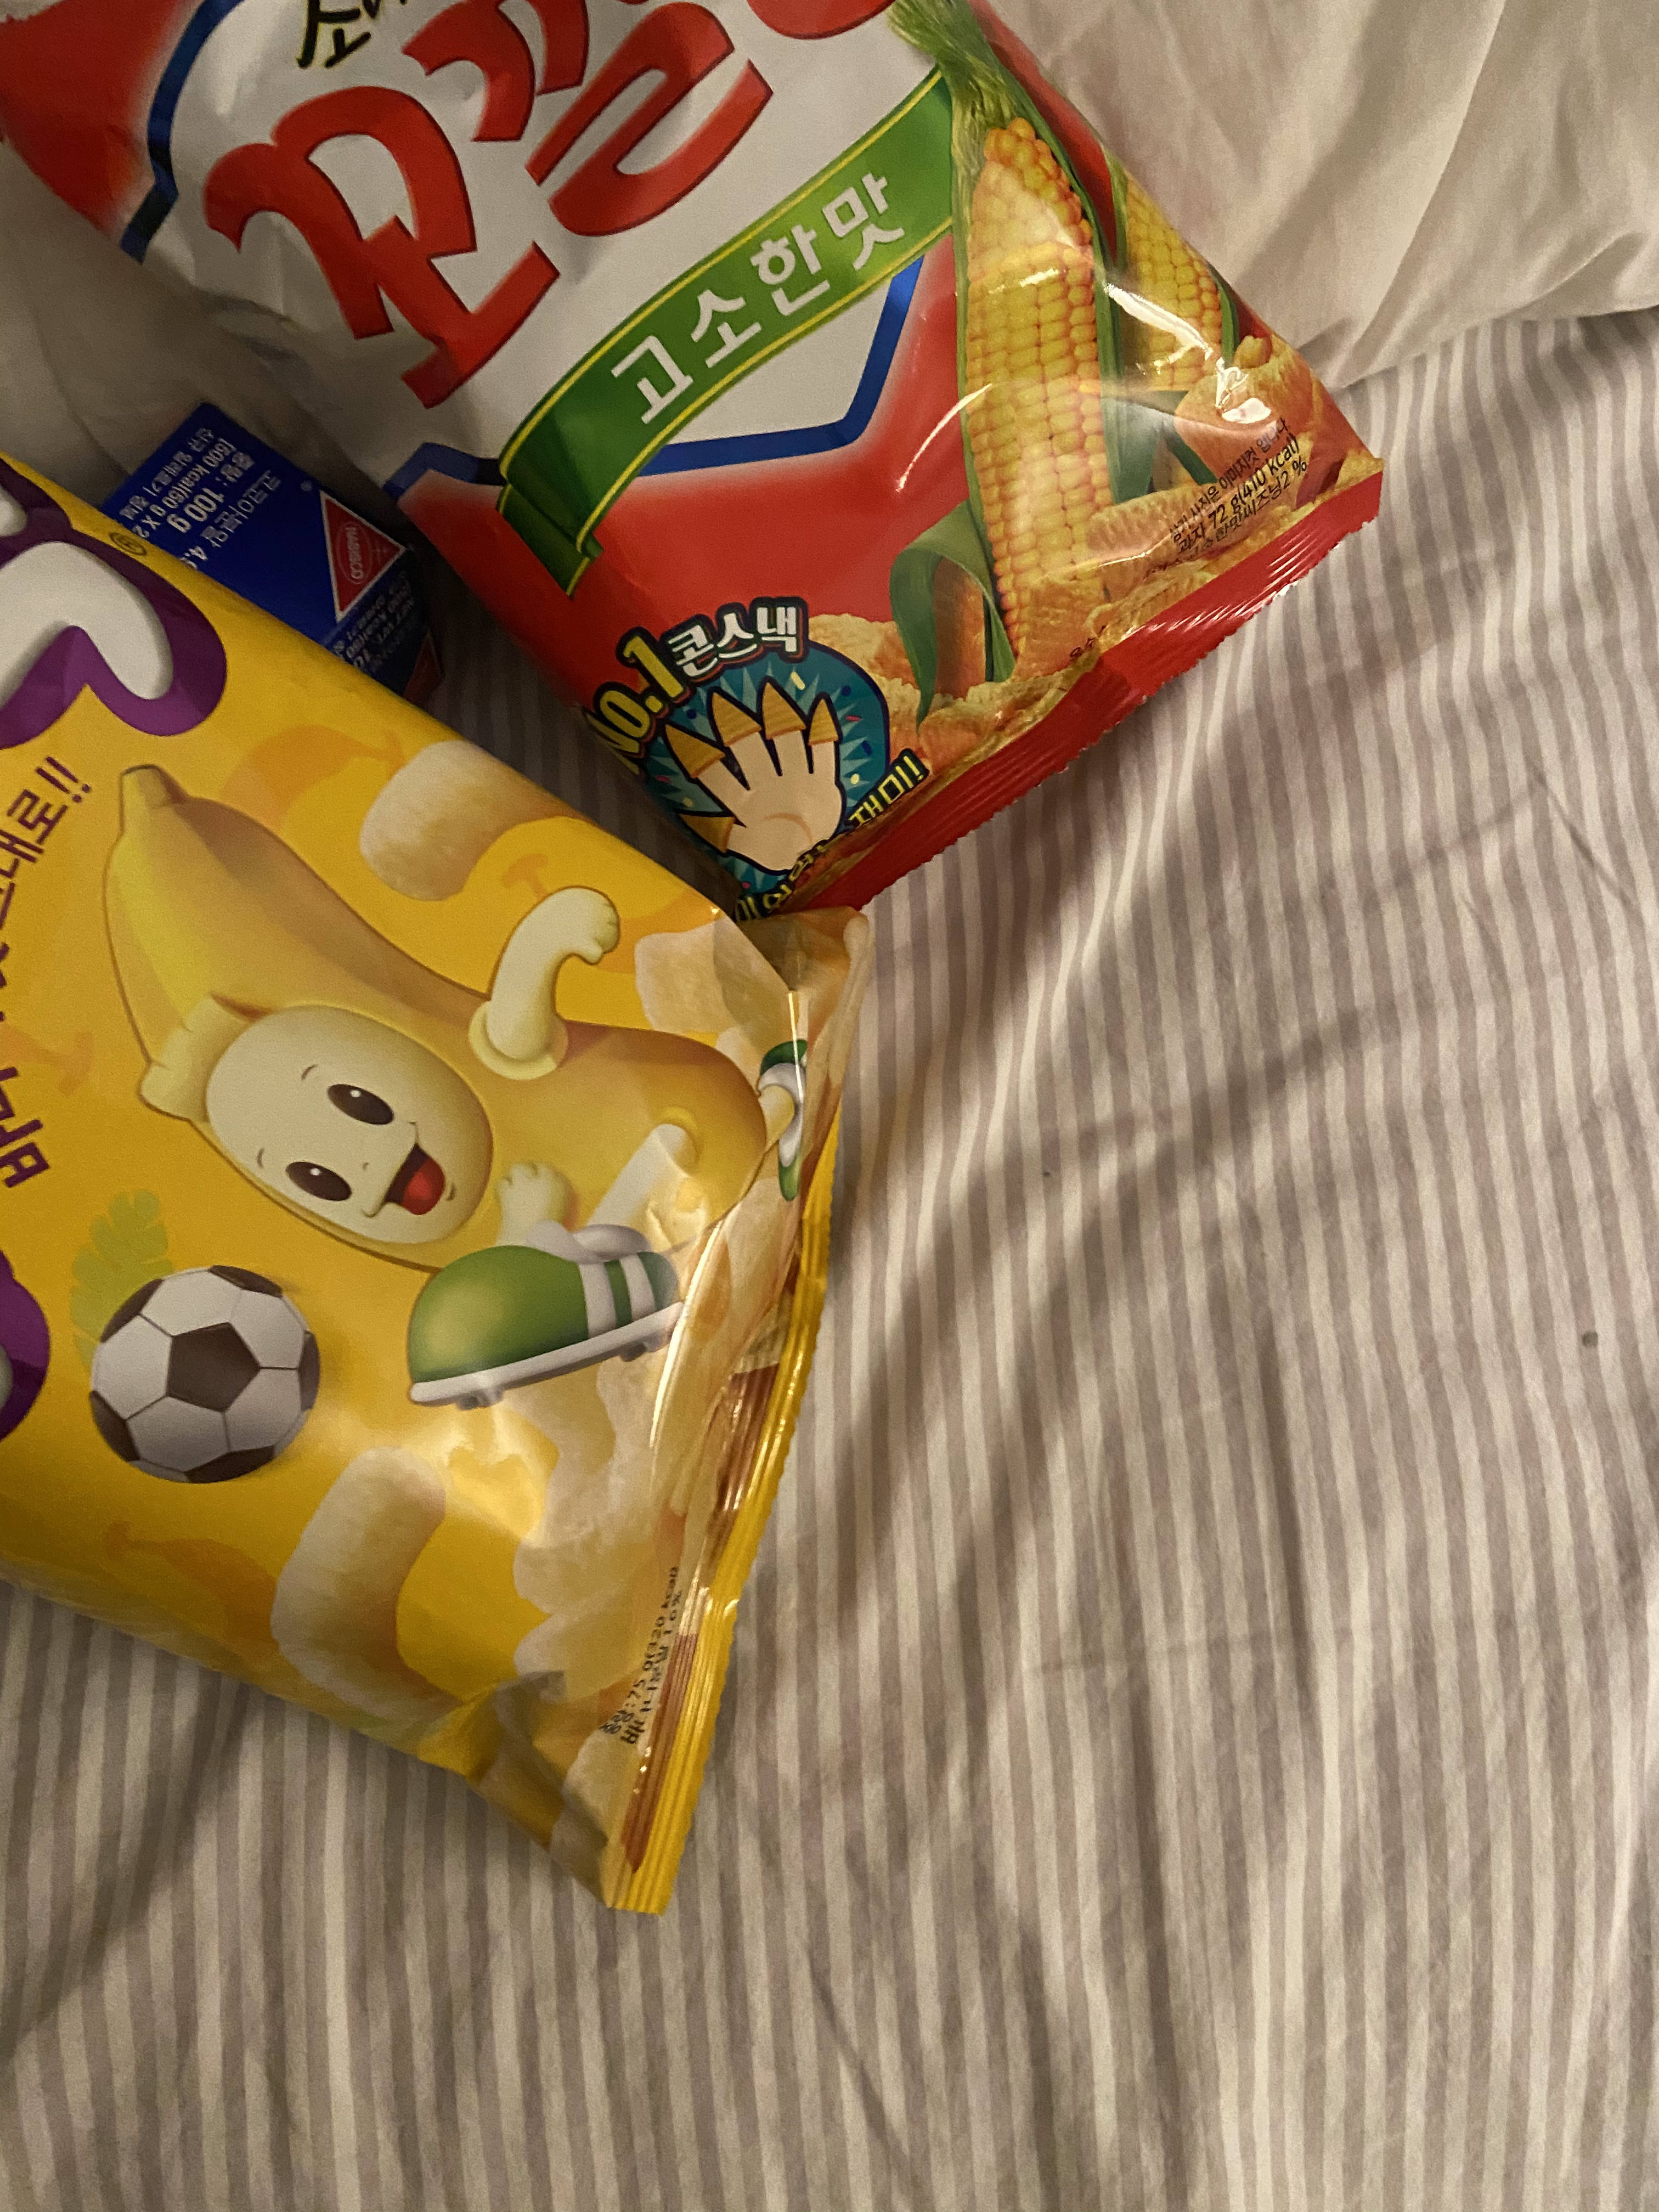banana: (0, 408, 878, 1935)
ggoggalcon: (0, 0, 1401, 946)
